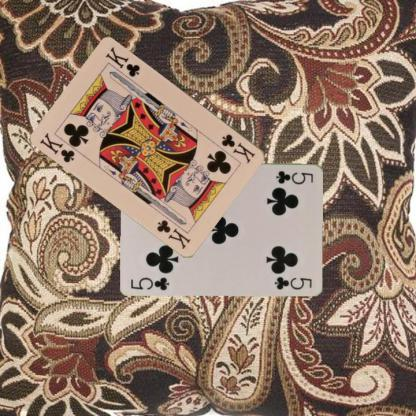5c: (129, 274, 171, 292), (274, 168, 314, 186)
Kc: (219, 131, 257, 165), (38, 130, 76, 164)
